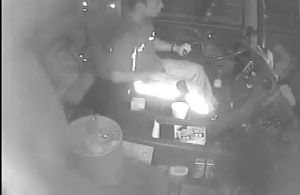paper: (152, 119, 207, 146)
